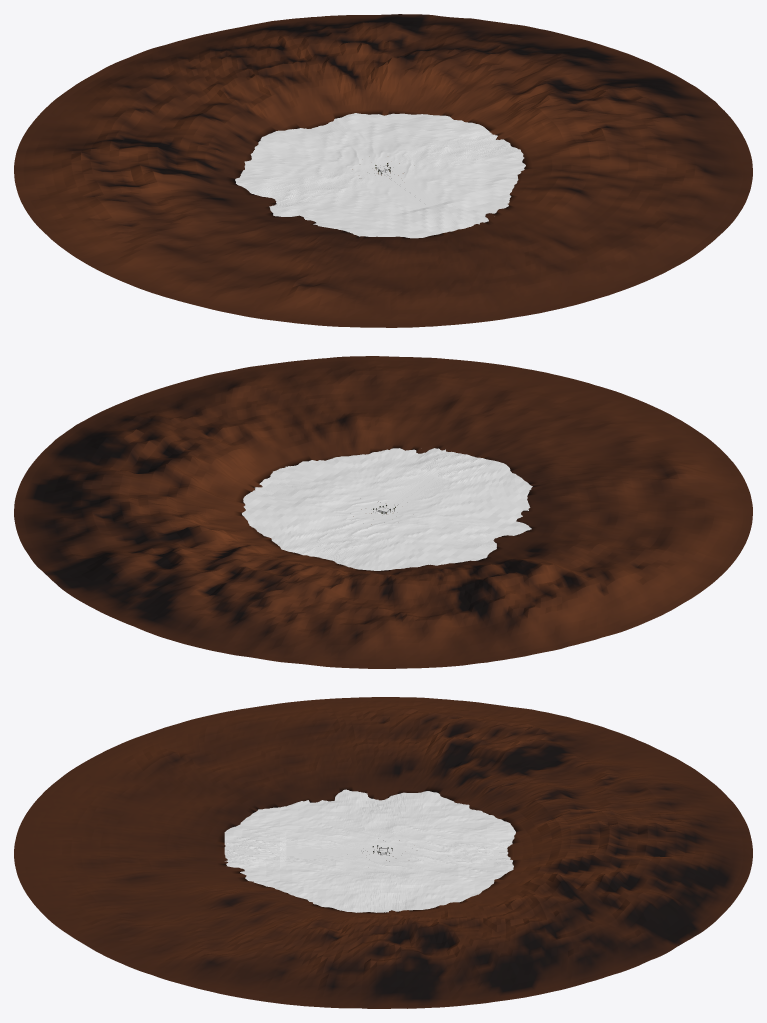
File: villa.glb
3 views of the same model, one above another, from view 1: azimuth 30°, elevation 25°; view 2: azimuth 150°, elevation 25°; view 3: azimuth 270°, elevation 25° (orthographic).
Parts seen in each view (by area): view 1: out__hills, out__terrain; view 2: out__hills, out__terrain; view 3: out__hills, out__terrain.
Part boxes in pixels (x1=…): out__hills: x1=14, y1=14, x2=752, y2=327; out__terrain: x1=235, y1=113, x2=525, y2=238; out__hills: x1=14, y1=356, x2=752, y2=668; out__terrain: x1=242, y1=448, x2=532, y2=570; out__hills: x1=14, y1=697, x2=752, y2=1008; out__terrain: x1=224, y1=789, x2=515, y2=912.
Size of the model in its own units: 2000 by 82.5 by 2000.
